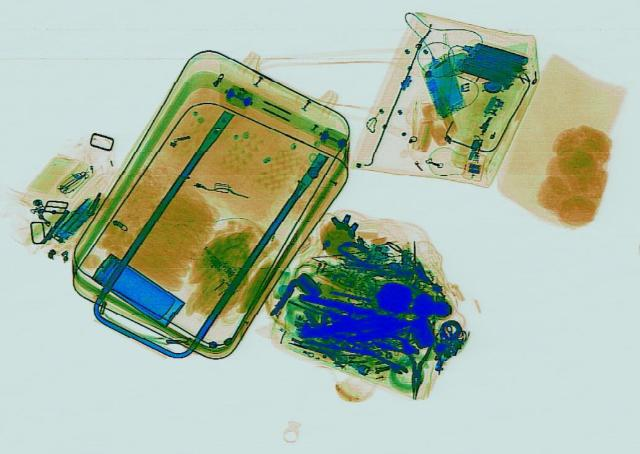Pliers: (397, 320, 435, 397)
Wrench: (357, 342, 409, 374)
